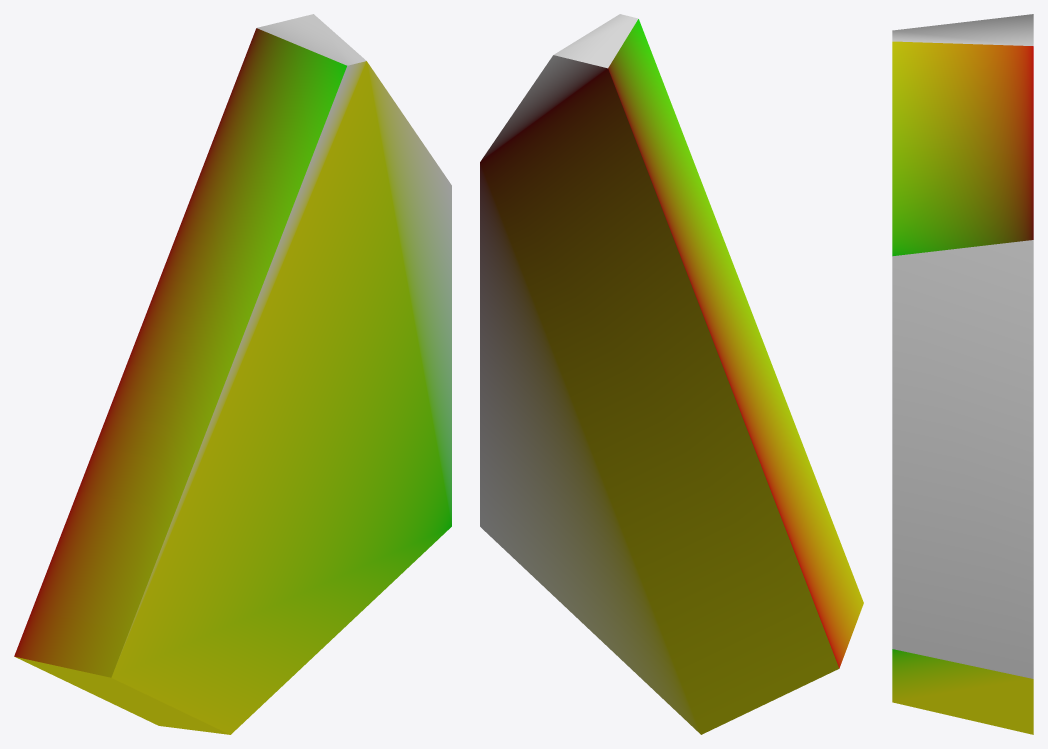
The model's file is Part_3_broken wall_06.fbx.
3 renders of one model, left to right at view 1: azimuth 30°, elevation 25°; view 2: azimuth 150°, elevation 25°; view 3: azimuth 270°, elevation 25°, orthographic. The views are drawn at different scales.
Parts seen in each view (by area): view 1: Part_3_broken wall_06; view 2: Part_3_broken wall_06; view 3: Part_3_broken wall_06.
Part boxes in pixels (x1,y1,x2,y2): Part_3_broken wall_06: (14,14,451,734); Part_3_broken wall_06: (480,14,863,734); Part_3_broken wall_06: (892,14,1033,734).
Bounding box in the file's own units: 7.39 × 12.66 × 2.09.
